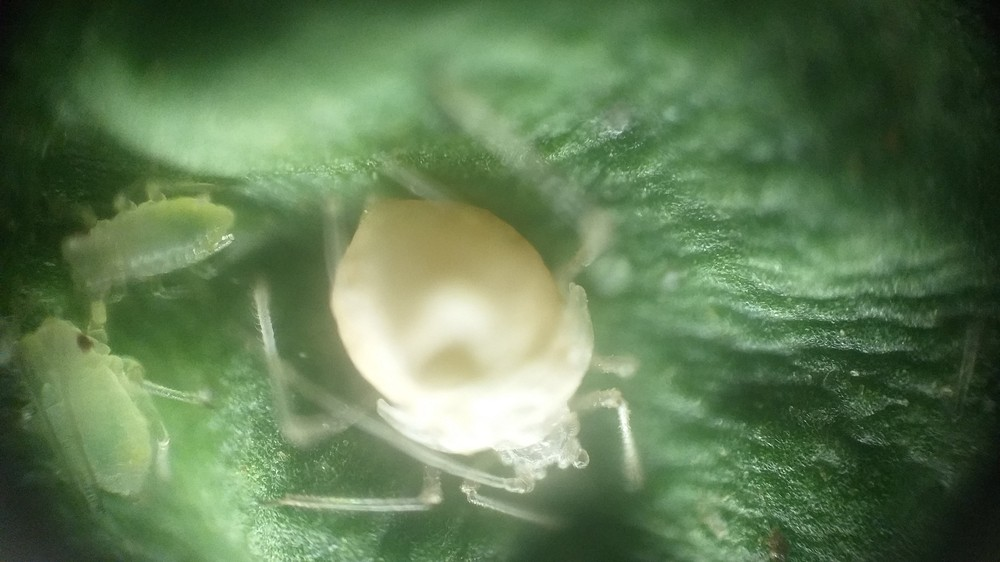Pulgon: (258, 134, 691, 539), (12, 303, 226, 514), (58, 163, 250, 309)
